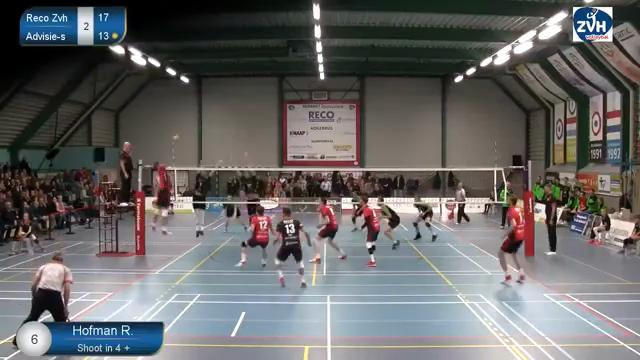attacco: (143, 146, 178, 236)
muro: (187, 155, 224, 243), (232, 159, 263, 225)
